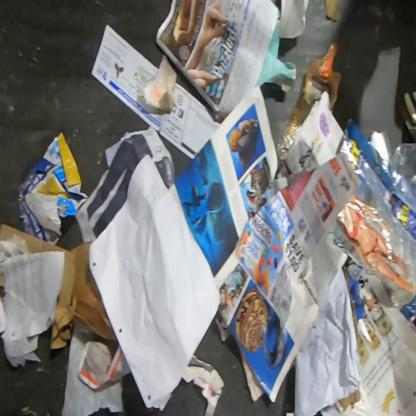cardboard: (0, 224, 119, 350), (18, 130, 90, 246), (0, 272, 6, 289)
soft_plastic: (276, 42, 342, 161)
